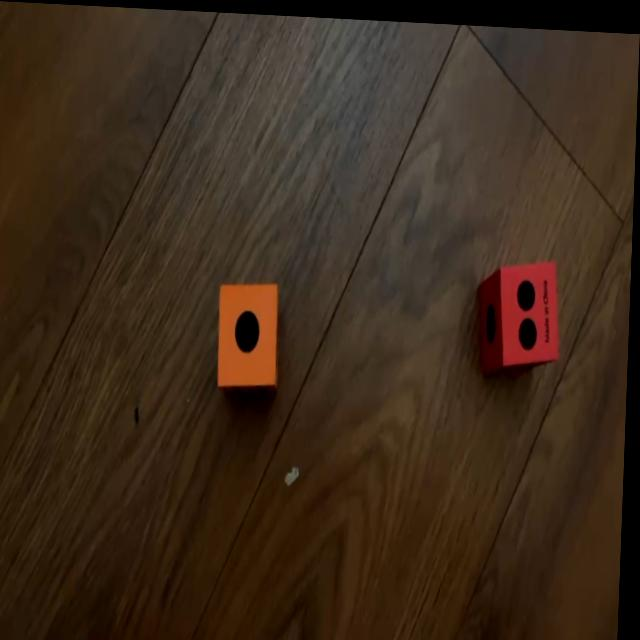red_block: (477, 253, 564, 369)
